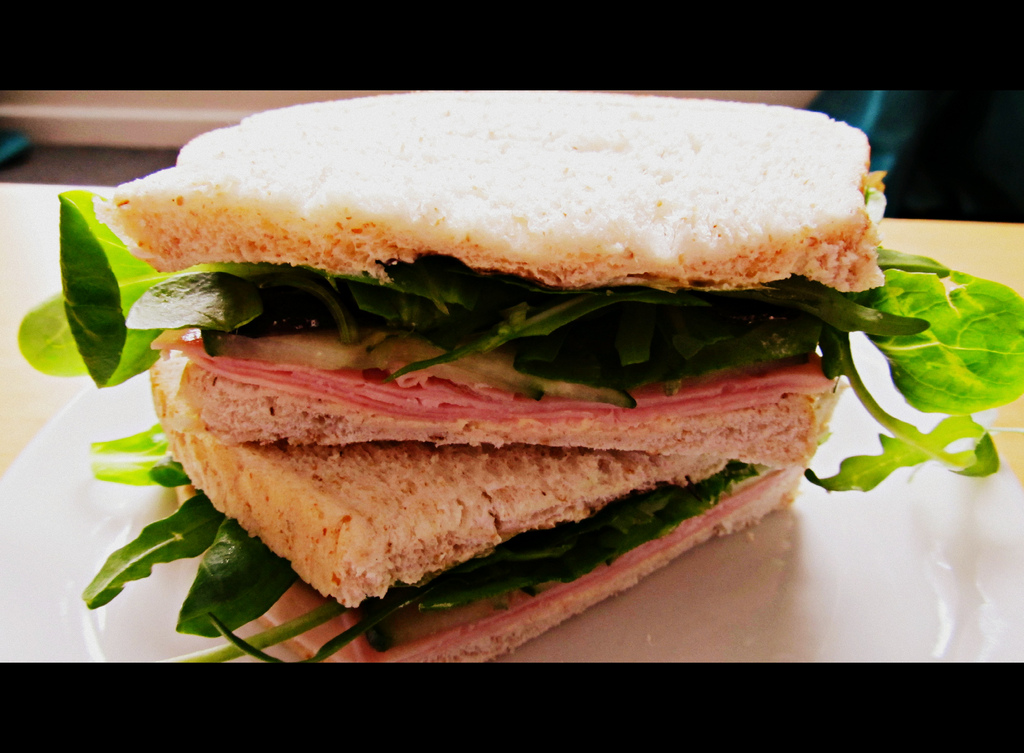chopped lettuce: (147, 271, 871, 359), (882, 234, 1023, 454), (43, 203, 159, 389)
slice of bread: (151, 96, 880, 267), (182, 425, 670, 553), (191, 393, 847, 476)
